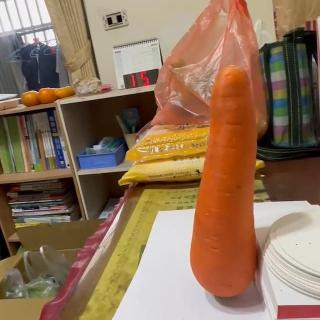carrot: (188, 65, 258, 299)
